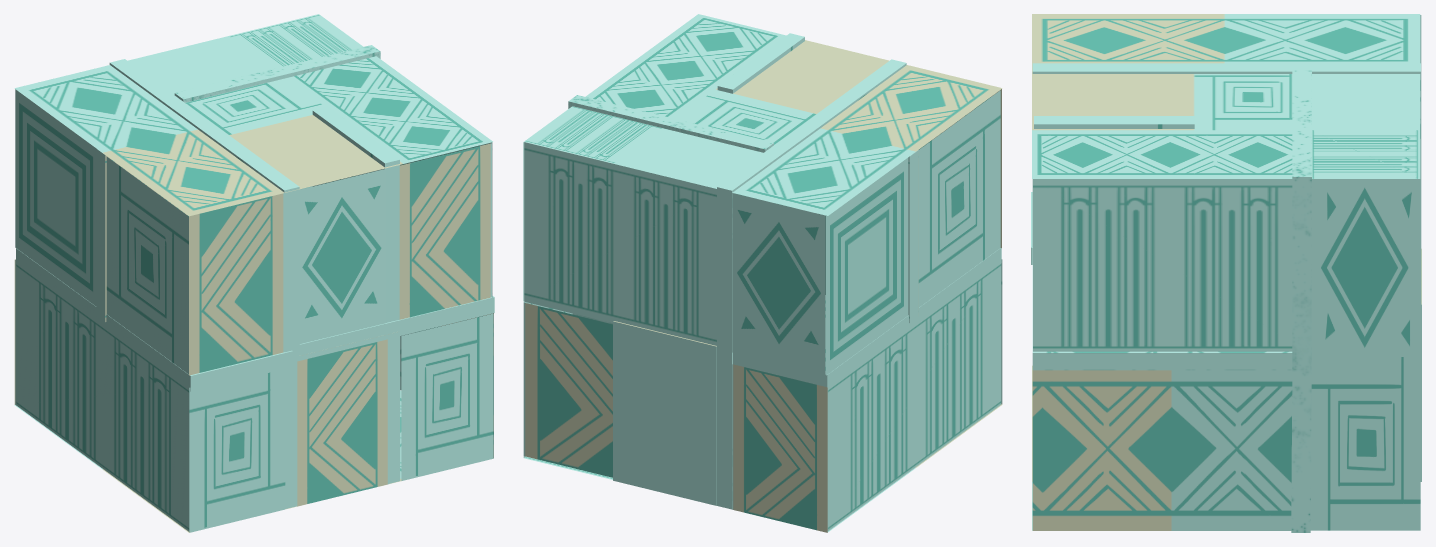
File: level04.fbx
3 renders of one model, left to right at view 1: azimuth 30°, elevation 25°; view 2: azimuth 150°, elevation 25°; view 3: azimuth 270°, elevation 25°, orthographic. The views are drawn at different scales.
Parts seen in each view (by area): view 1: Plane.080, Plane.090, Plane.070, Plane.072, Plane.073, Plane.075, Plane.071, Plane.074, Plane.088, Plane.089, Cube.009, Cube.012 (+5 smaller); view 2: Plane.080, Plane.091, Plane.090, Cube.015, Plane.083, Plane.084, Plane.082, Plane.089, Plane.088, Cube.009, Cube.012, Cube.014 (+2 smaller); view 3: Plane.080, Plane.085, Plane.050, Plane.087, Plane.086, Cube.014, Cube.011, Cube.009, Cube.007, Cube.015.
Part boxes in pixels (<box>): Plane.080: <box>14,14,492,216</box>; Plane.090: <box>15,260,189,531</box>; Plane.070: <box>189,193,284,375</box>; Plane.072: <box>399,143,491,319</box>; Plane.073: <box>189,369,285,532</box>; Plane.075: <box>401,313,493,480</box>; Plane.071: <box>299,169,385,343</box>; Plane.074: <box>297,339,388,506</box>; Plane.088: <box>106,157,188,374</box>; Plane.089: <box>15,89,96,306</box>; Cube.009: <box>109,59,299,508</box>; Cube.012: <box>16,248,292,391</box>; Plane.080: <box>524,14,1002,215</box>; Plane.091: <box>524,142,716,345</box>; Plane.090: <box>827,260,1001,531</box>; Cube.015: <box>613,321,716,505</box>; Plane.083: <box>732,193,825,375</box>; Plane.084: <box>732,364,827,532</box>; Plane.082: <box>523,302,612,477</box>; Plane.089: <box>826,157,908,375</box>; Plane.088: <box>918,90,1000,307</box>; Cube.009: <box>717,59,906,509</box>; Cube.012: <box>733,248,1001,386</box>; Cube.014: <box>568,95,773,324</box>; Plane.080: <box>1032,14,1420,178</box>; Plane.085: <box>1033,179,1312,351</box>; Plane.050: <box>1032,370,1292,530</box>; Plane.087: <box>1312,179,1421,356</box>; Plane.086: <box>1310,357,1420,530</box>; Cube.014: <box>1291,70,1311,532</box>; Cube.011: <box>1032,247,1292,370</box>; Cube.009: <box>1032,63,1420,246</box>; Cube.007: <box>1034,116,1194,128</box>; Cube.015: <box>1312,248,1421,481</box>.
Bounding box in the file's own units: 609 × 606 × 601.
